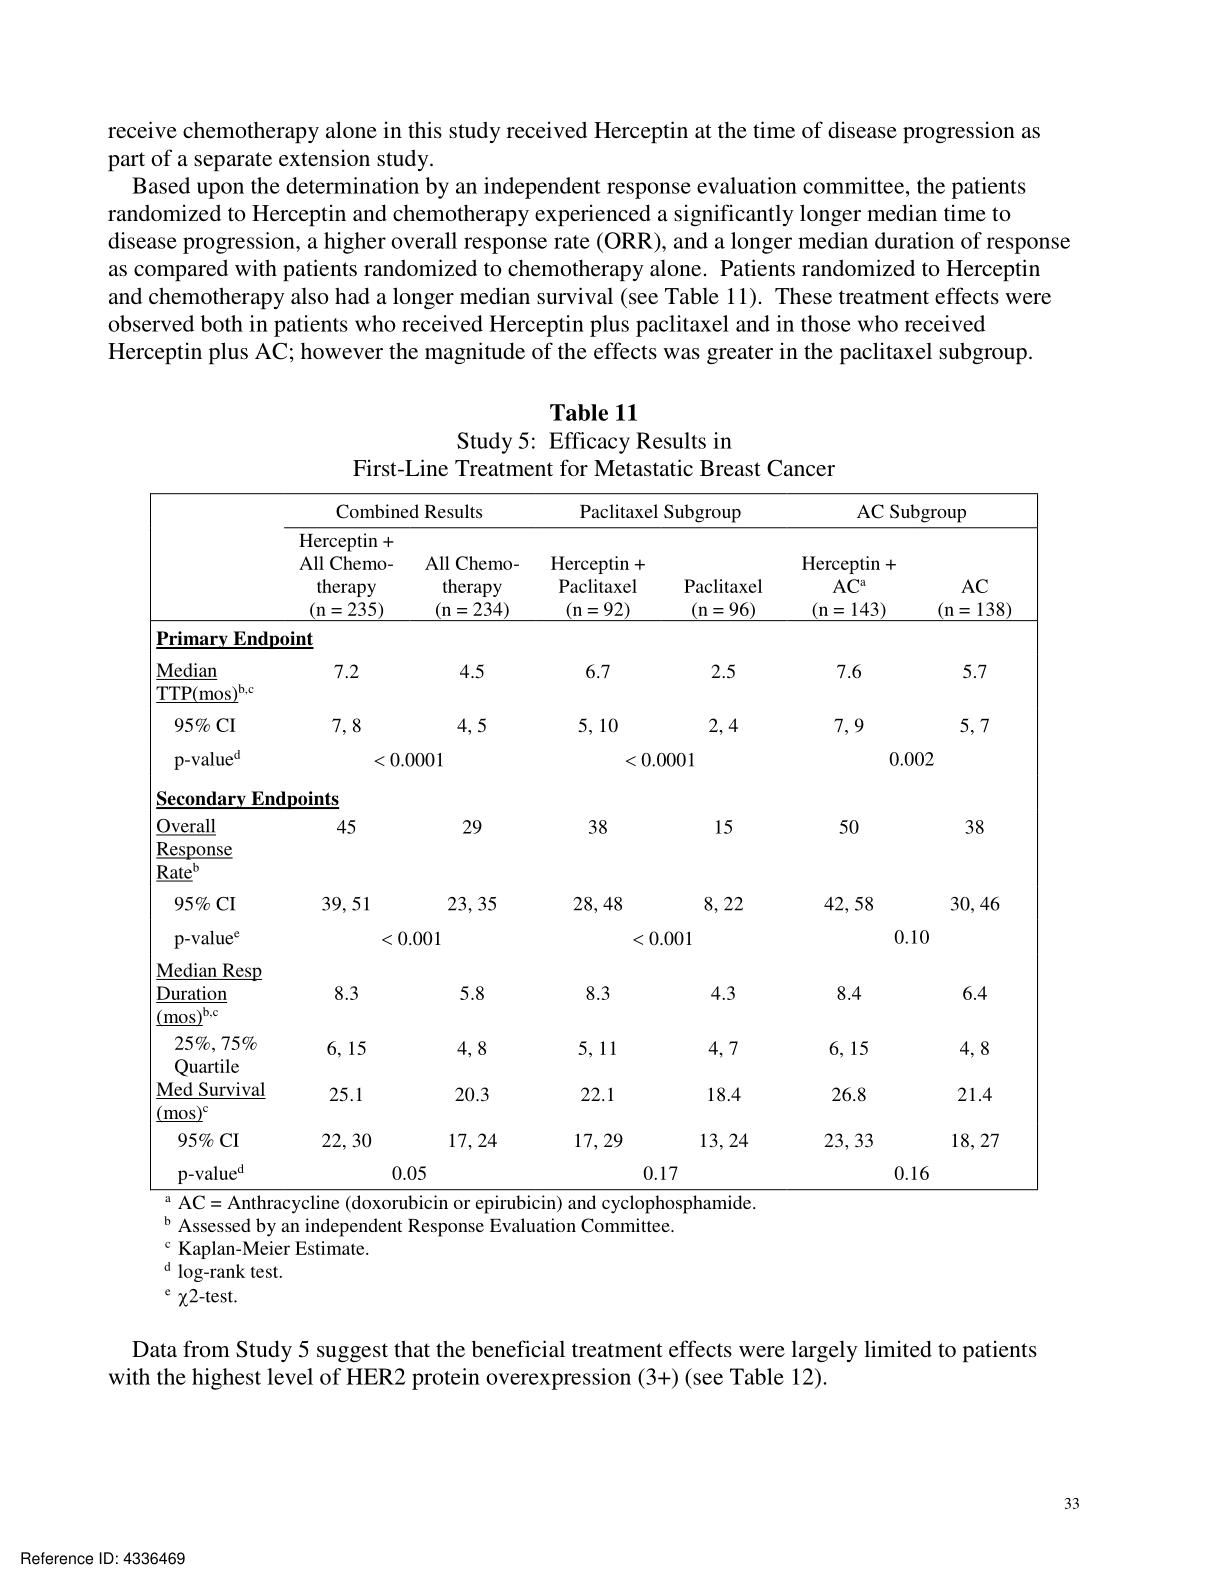partial_lined_merged_cells: (149, 491, 1039, 1191)
